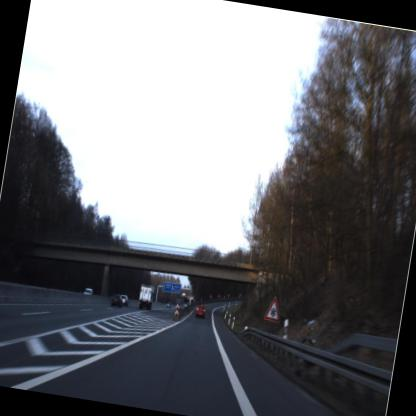danger: (258, 286, 286, 328)
